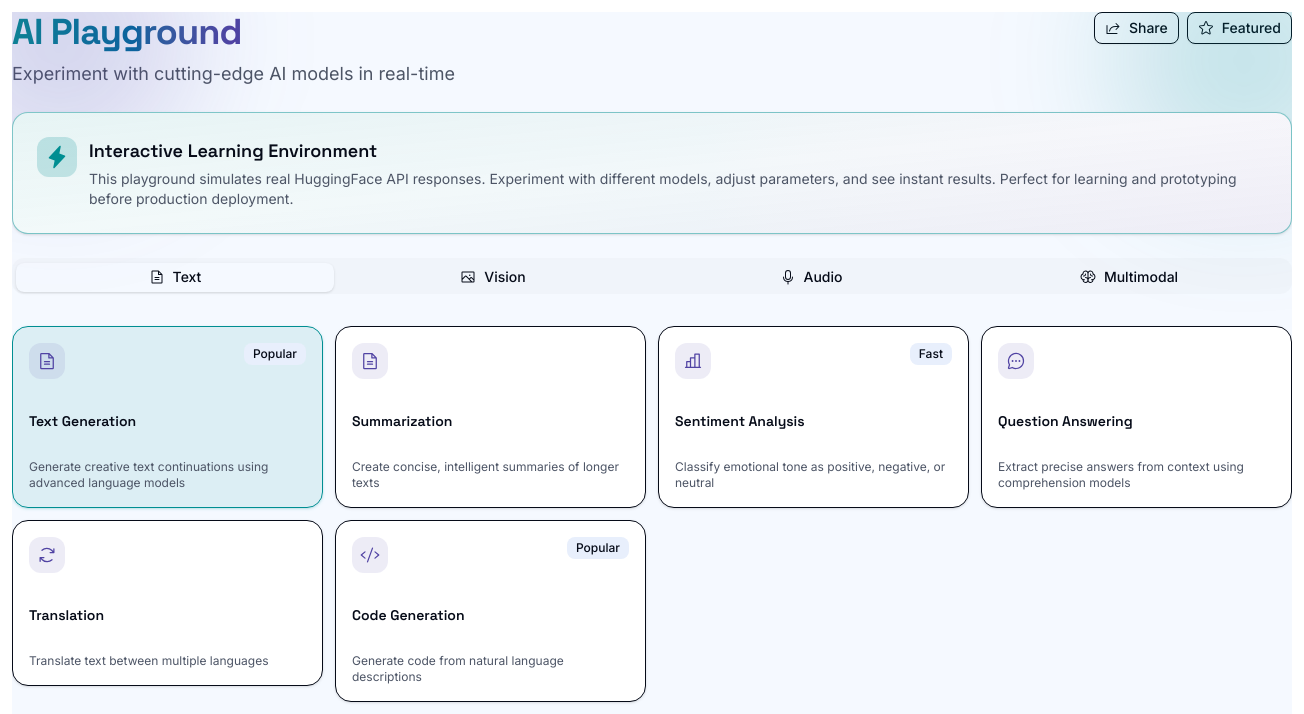
Test case: ApiPlayground › Category Switching › should filter tasks when changing tabs
// Switch to Vision tab
Click the tab "Vision".
click(493, 277)  # box [334, 262, 652, 292]
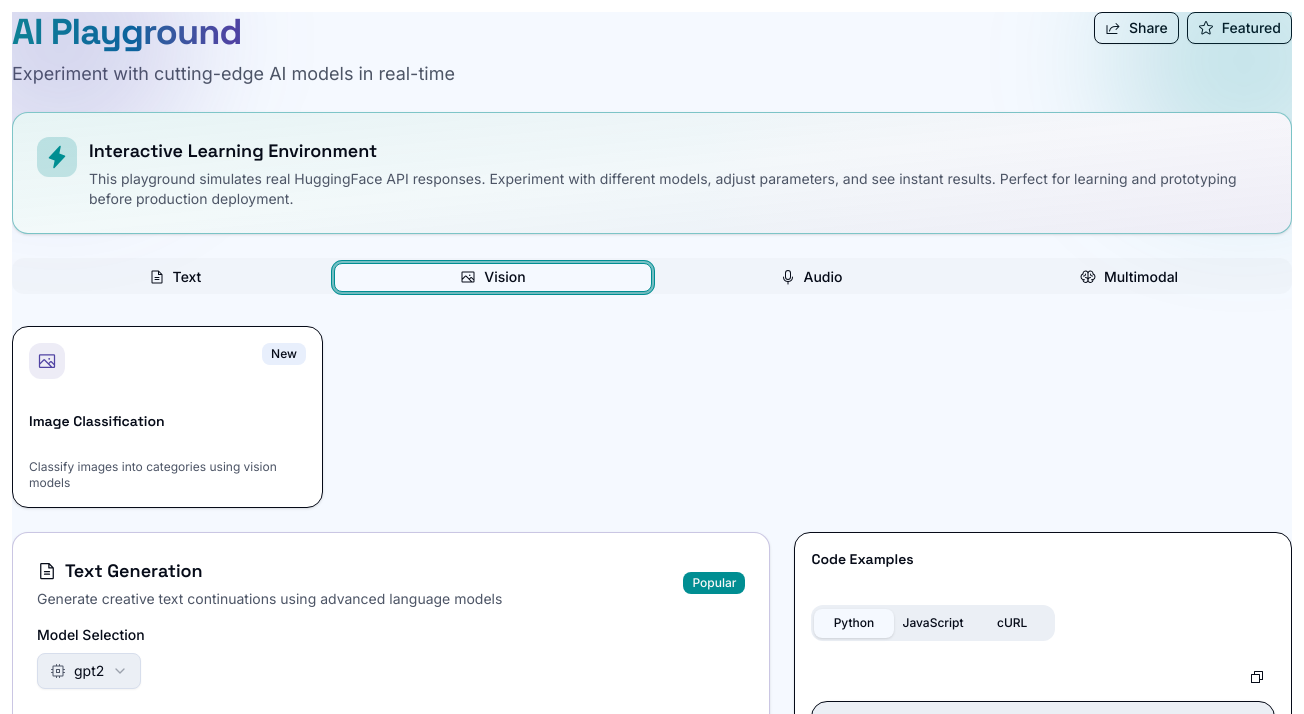
expect the heading "Image Classification" is shown: met, box [29, 412, 165, 430]
